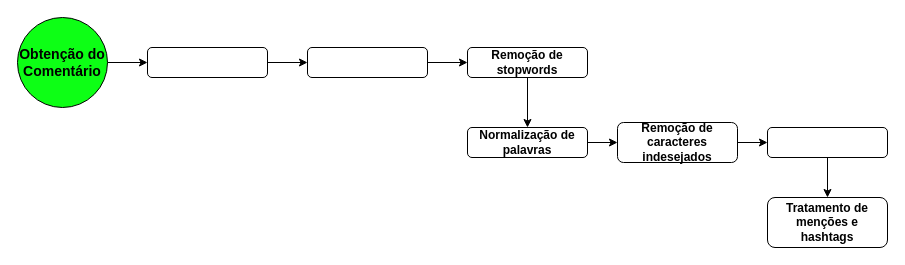
Some shapes in this 905 by 265 pixel diagram are drawn without their labels. Here are the shapes that lost their labels. From the top down, the box of each, then its label:
(146, 46, 268, 78): Remoção de pontuação
(306, 46, 428, 78): Tokenização
(766, 126, 888, 158): Normalização de letras
